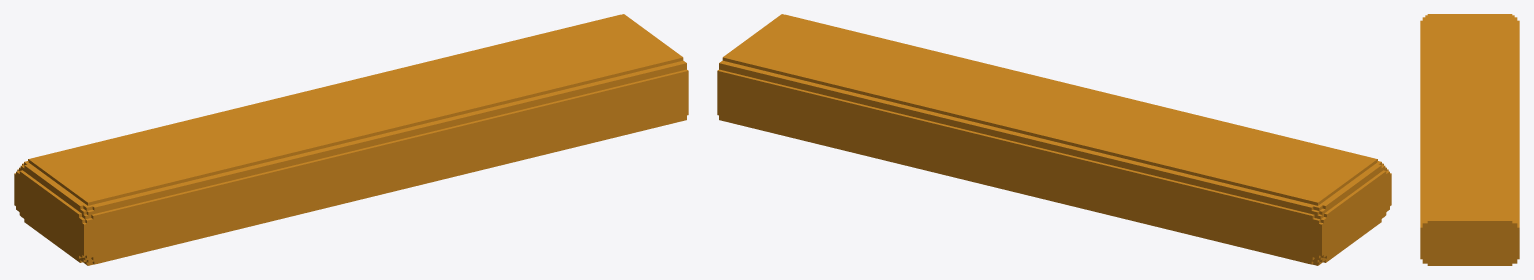
File: GORODITH_seesaw-0.obj
3 views of the same model, side by side, from view 1: azimuth 30°, elevation 25°; view 2: azimuth 150°, elevation 25°; view 3: azimuth 270°, elevation 25° (orthographic). The views are drawn at different scales.
Size of the model in its own units: 20 by 2 by 4.
Materials: 1 (1 with a texture image).
